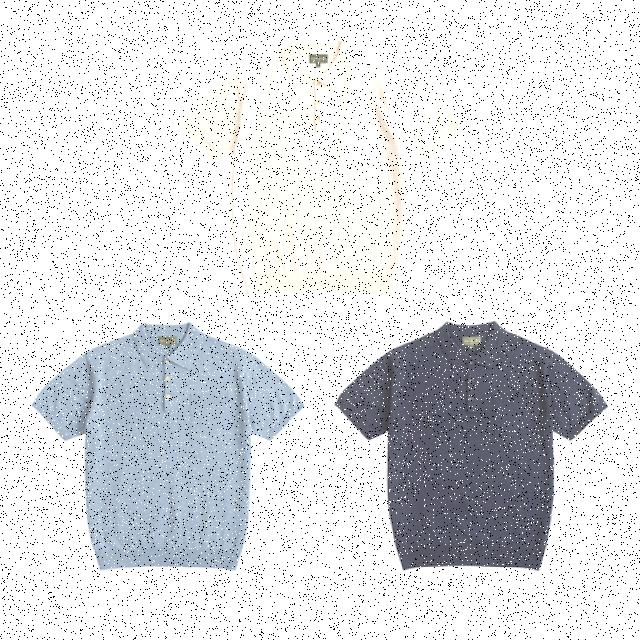dress: (30, 316, 306, 576), (181, 38, 458, 297), (332, 318, 610, 573)
